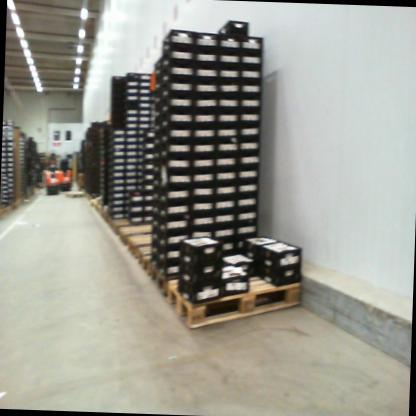pallet: (168, 247, 305, 332), (147, 256, 207, 304), (114, 219, 174, 248), (126, 231, 169, 262), (134, 243, 162, 273), (59, 187, 88, 204)
pallet_truck: (41, 154, 64, 197), (57, 153, 78, 192)
